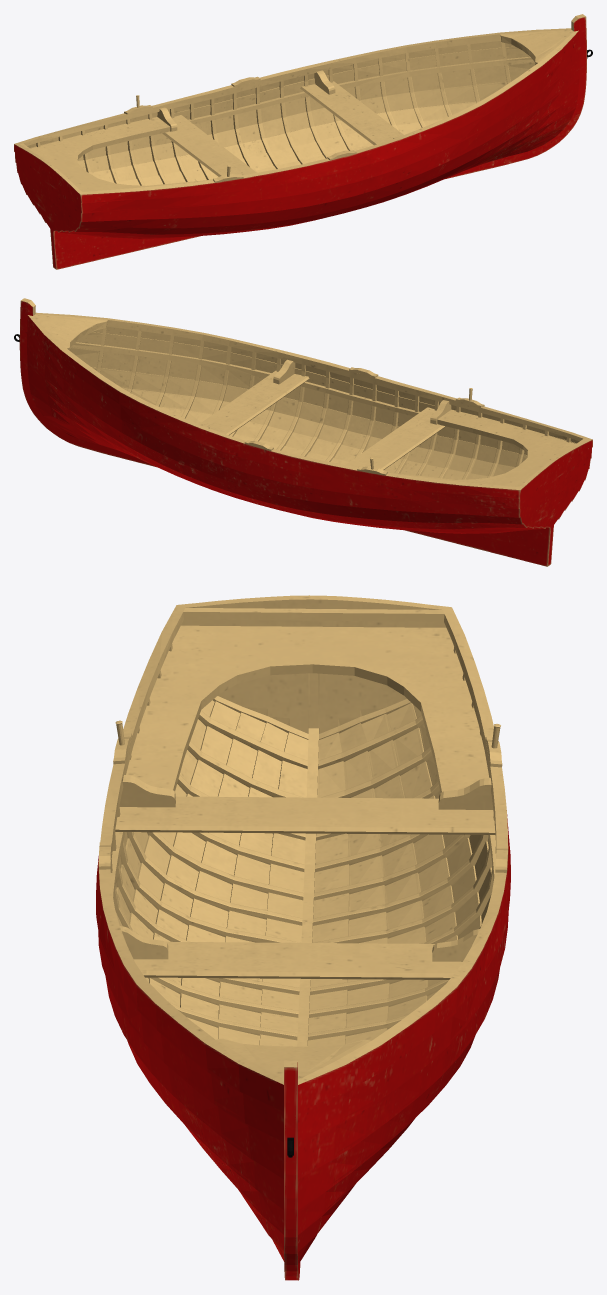
The model's file is Wooden_row_boat_001.obj.
The picture shows the model from 3 angles, top to bottom: view 1: azimuth 30°, elevation 25°; view 2: azimuth 150°, elevation 25°; view 3: azimuth 270°, elevation 25°; orthographic projection. The views are drawn at different scales.
Parts seen in each view (by area): view 1: Boat_001; view 2: Boat_001; view 3: Boat_001.
Part boxes in pixels (x1,y1,x2,y2): Boat_001: (14,14,586,269); Boat_001: (19,298,592,566); Boat_001: (96,595,510,1280).
Size of the model in its own units: 370 by 84.83 by 123.
Materials: 2 (1 with a texture image).
